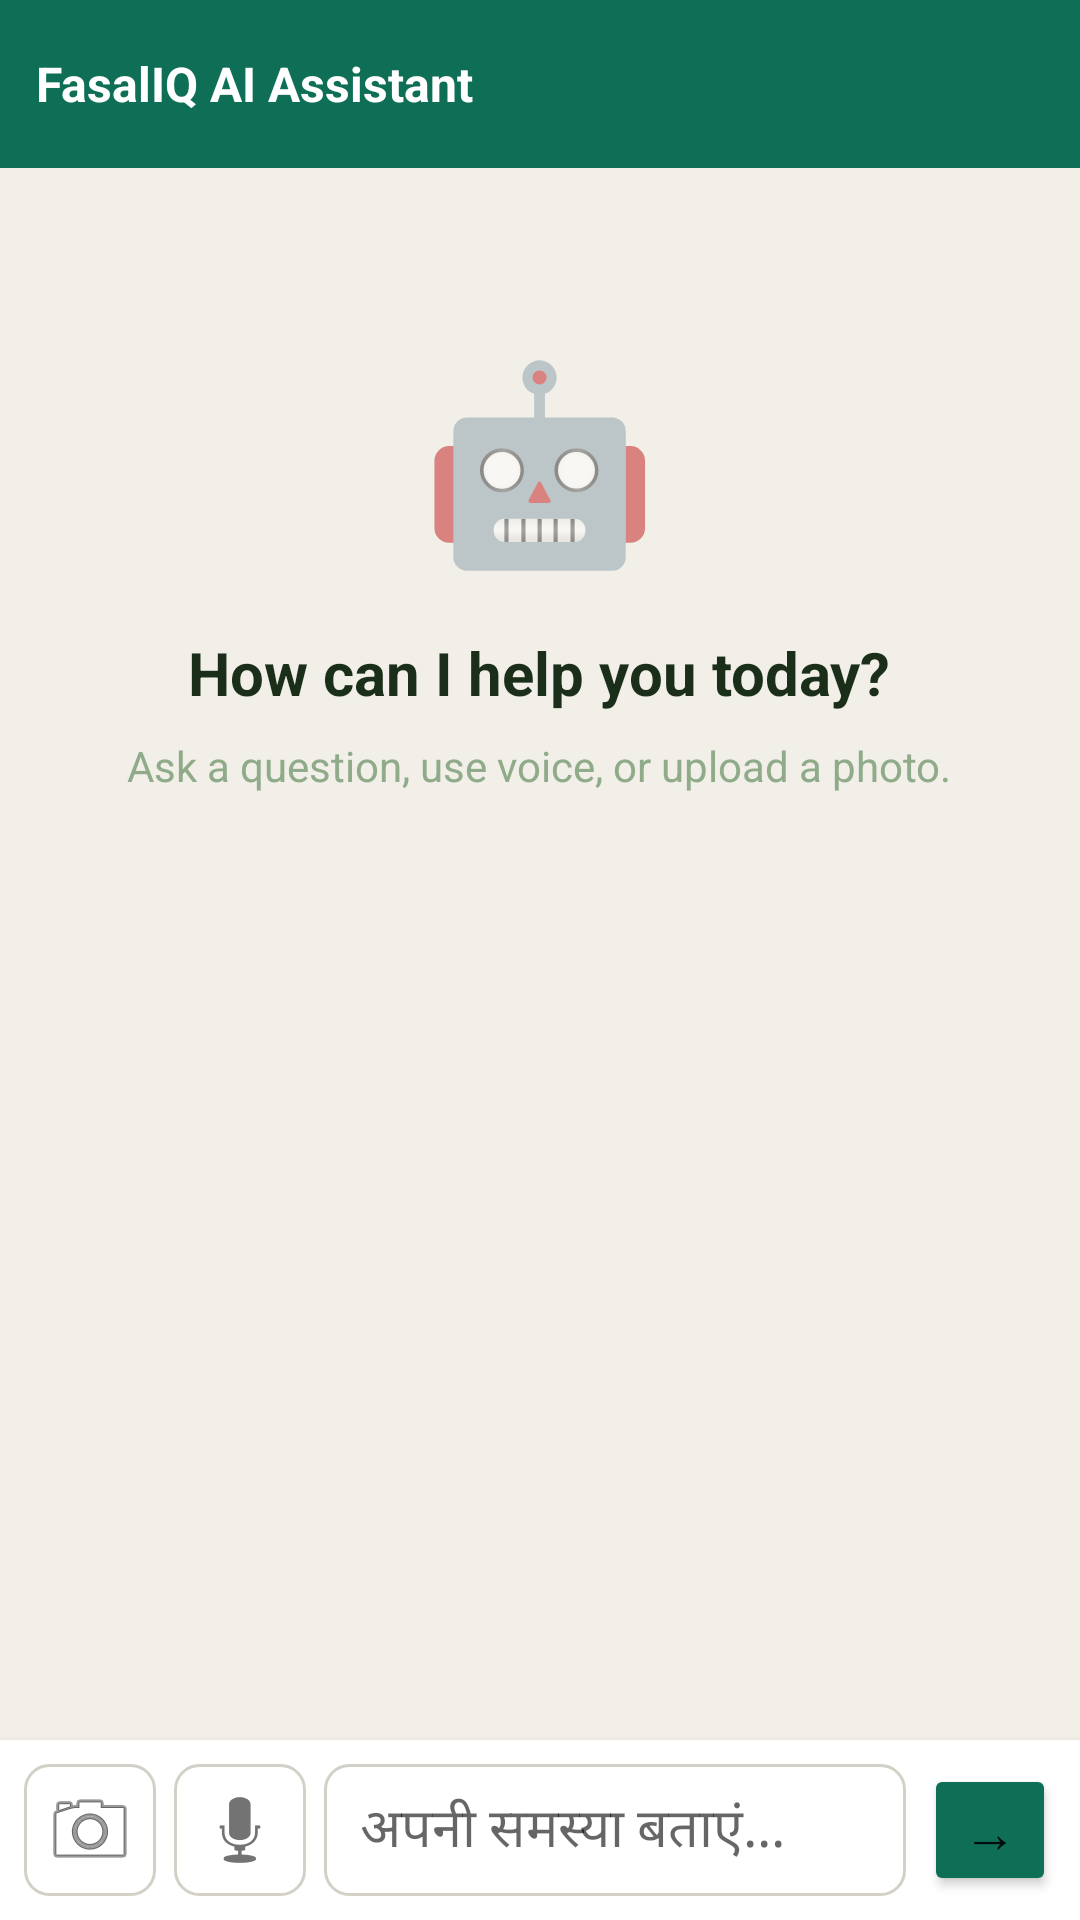

Where to tap for icons on this 1080 x 1920 app screen, as point (x, y):
camera: point (90, 1830)
speak now: point (240, 1830)
